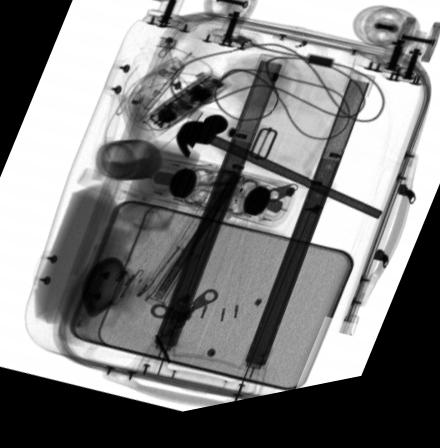Hammer: (175, 123, 382, 235)
